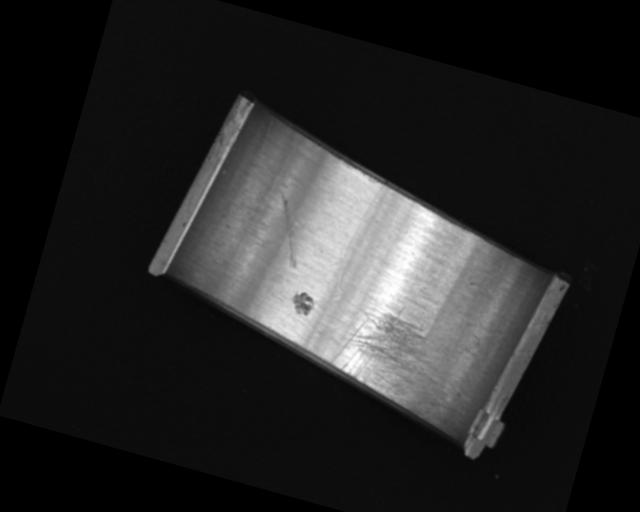bruise: (287, 289, 316, 317)
nick: (330, 177, 384, 302), (262, 192, 314, 269)
scratch: (320, 292, 459, 423)
